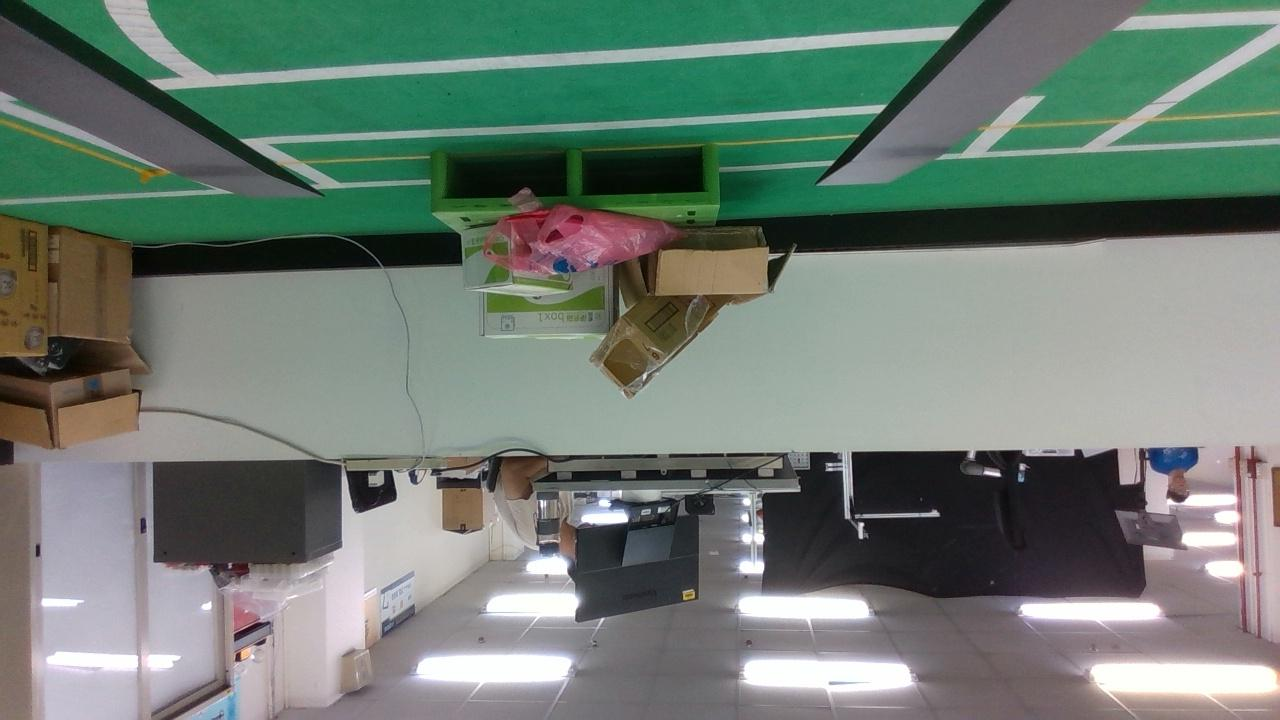Pallet: (430, 151, 720, 214)
